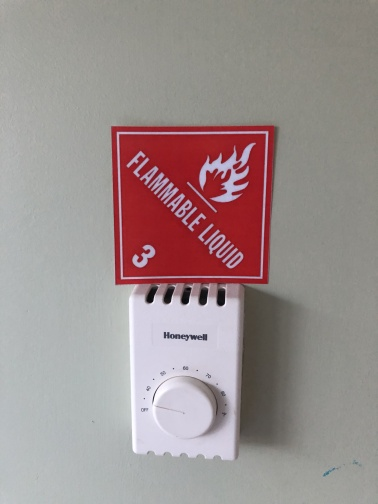FlammableLiquid: (111, 126, 269, 279)
